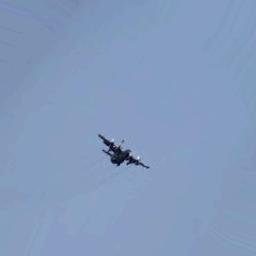Airplane: (97, 133, 150, 171)
